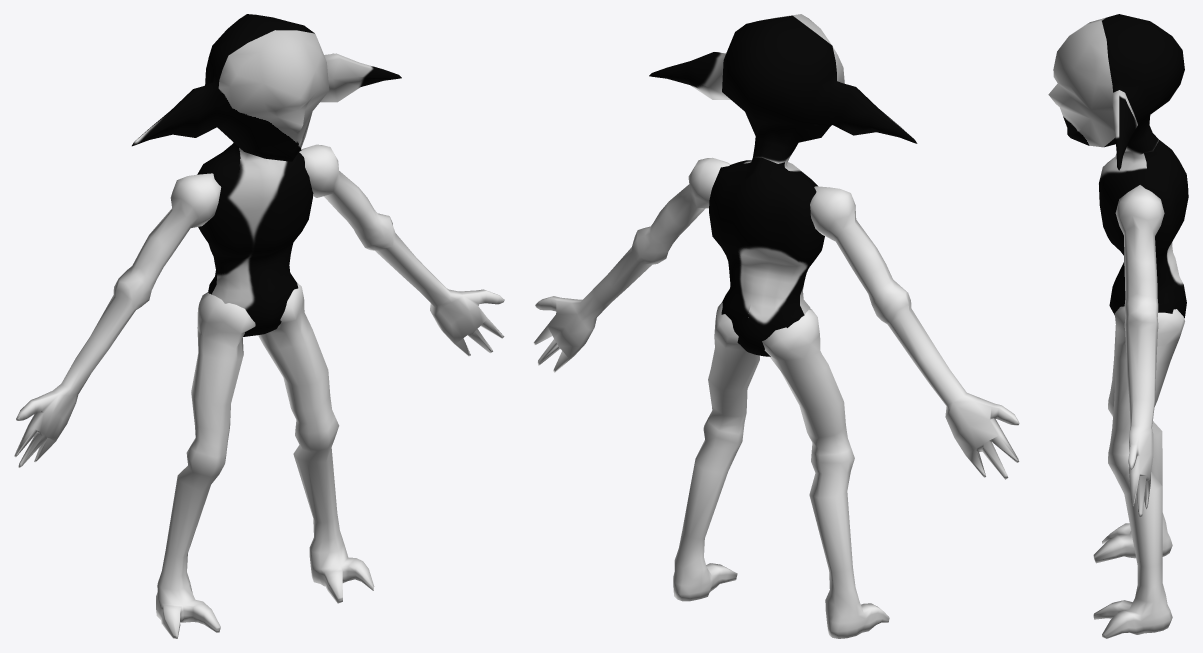
File: GD_creature.fbx
The picture shows the model from 3 angles, left to right: view 1: azimuth 30°, elevation 25°; view 2: azimuth 150°, elevation 25°; view 3: azimuth 270°, elevation 25°; orthographic projection. The views are drawn at different scales.
Visible parts, largest first — view 1: body, leg_R, leg_L, arm_R, arm_L; view 2: body, leg_R, arm_R, leg_L, arm_L; view 3: body, arm_L, leg_L, leg_R.
Part boxes in pixels (x1,y1,x2,y2): body: (132,14,401,336); leg_R: (156,292,255,638); leg_L: (258,281,374,603); arm_R: (14,173,221,467); arm_L: (299,144,504,356); body: (649,14,917,356); leg_R: (762,309,889,638); arm_R: (810,186,1019,479); leg_L: (673,302,759,601); arm_L: (533,157,730,372); body: (1048,14,1188,318); arm_L: (1115,185,1164,517); leg_L: (1093,306,1184,638); leg_R: (1093,325,1172,563).
Bounding box in the file's own units: 379 × 434 × 96.46.
